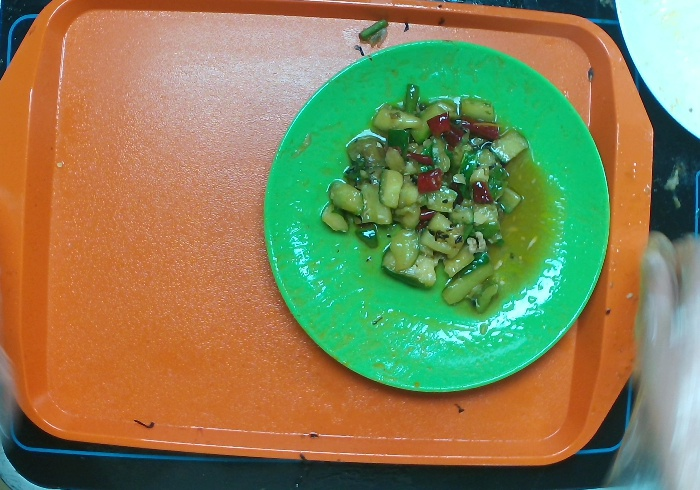HZYJPL-Lv_Se_Yuan_Pan: (266, 40, 612, 397)
